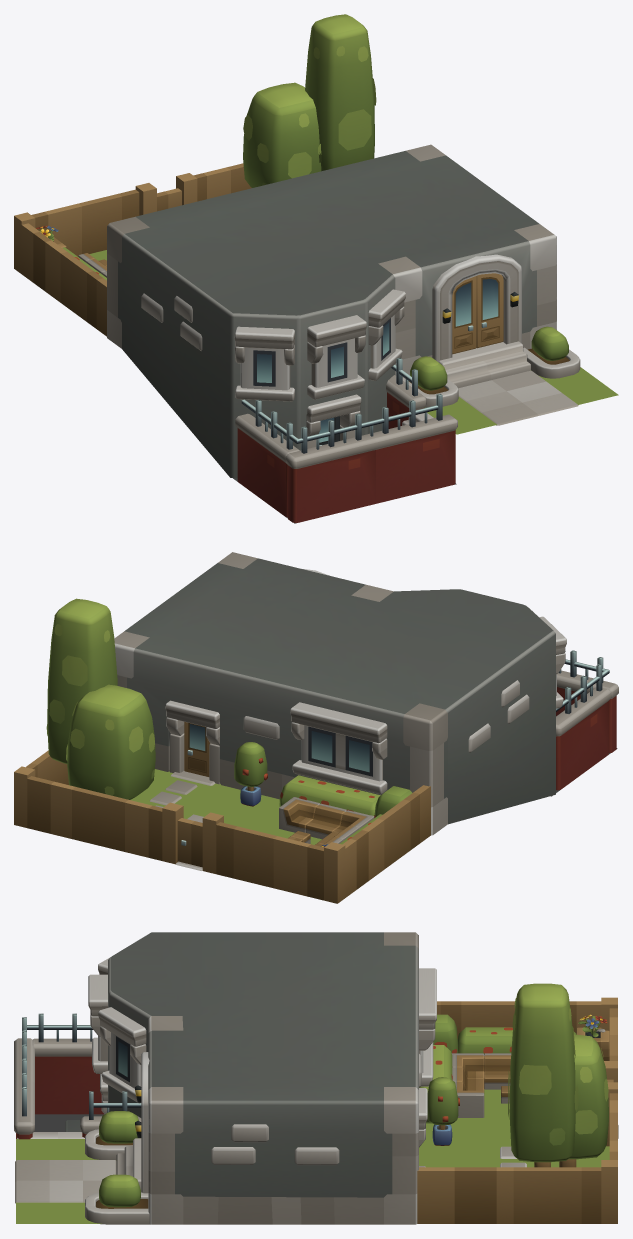
File: apartment_type2_ground_grey.fbx
The picture shows the model from 3 angles, top to bottom: view 1: azimuth 30°, elevation 25°; view 2: azimuth 150°, elevation 25°; view 3: azimuth 270°, elevation 25°; orthographic projection. The views are drawn at different scales.
Parts seen in each view (by area): view 1: apartment_type2_ground_grey, door_front_right_apartment_type2_ground, door_front_left_apartment_type2_ground; view 2: apartment_type2_ground_grey, door_back_apartment_type2_ground, door_garden_apartment_type2_ground; view 3: apartment_type2_ground_grey.
Part boxes in pixels (left/top/right/bottom): apartment_type2_ground_grey: left=14, top=14, right=618, bottom=523; door_front_right_apartment_type2_ground: left=476, top=273, right=503, bottom=348; door_front_left_apartment_type2_ground: left=452, top=276, right=476, bottom=354; apartment_type2_ground_grey: left=14, top=552, right=618, bottom=903; door_back_apartment_type2_ground: left=184, top=722, right=210, bottom=776; door_garden_apartment_type2_ground: left=177, top=818, right=202, bottom=867; apartment_type2_ground_grey: left=14, top=932, right=618, bottom=1224.
Bounding box in the file's own units: 1230 × 889 × 1809.
